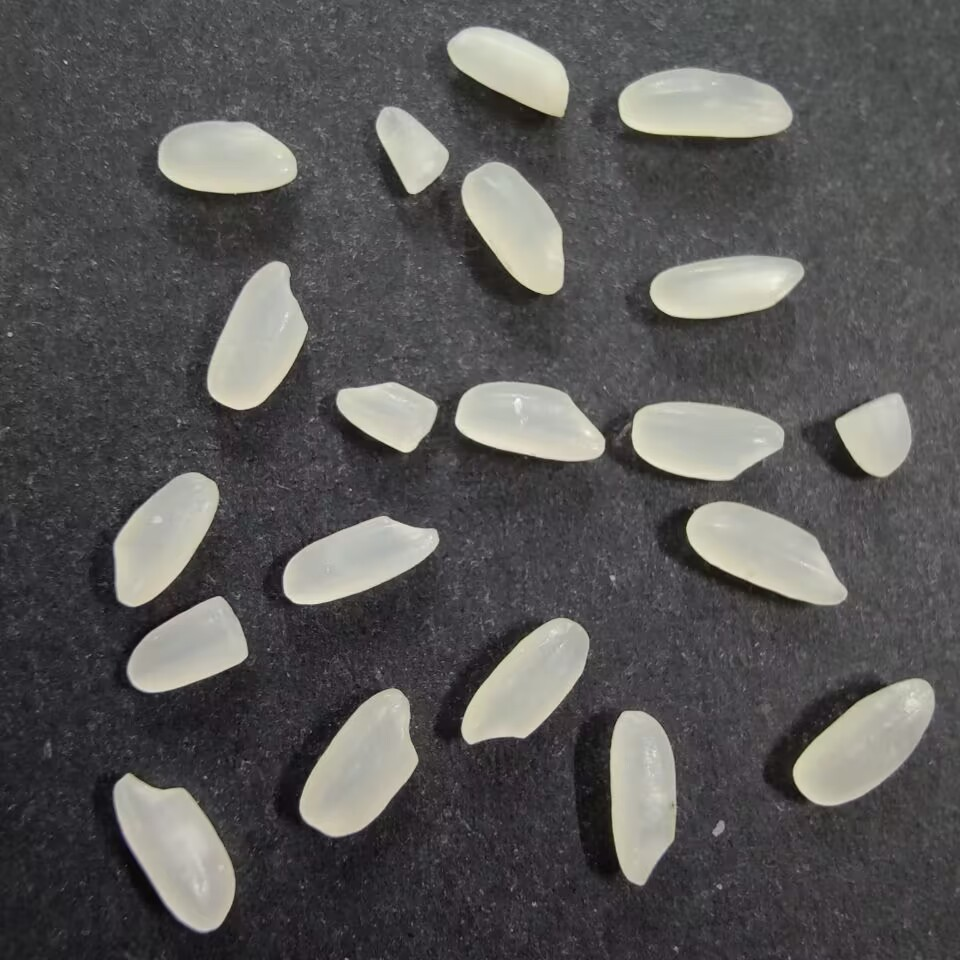broken: (122, 591, 250, 697), (829, 387, 918, 482), (333, 378, 440, 456), (370, 102, 454, 197)
rice: (107, 770, 237, 935), (790, 673, 940, 811), (295, 684, 426, 838), (682, 497, 852, 611), (458, 613, 593, 748), (204, 254, 311, 415), (106, 469, 225, 610), (279, 512, 442, 609), (460, 160, 570, 301), (612, 63, 799, 142), (630, 401, 790, 485), (608, 707, 680, 890), (451, 380, 606, 464), (443, 25, 577, 116), (642, 250, 806, 323), (155, 120, 299, 195)
